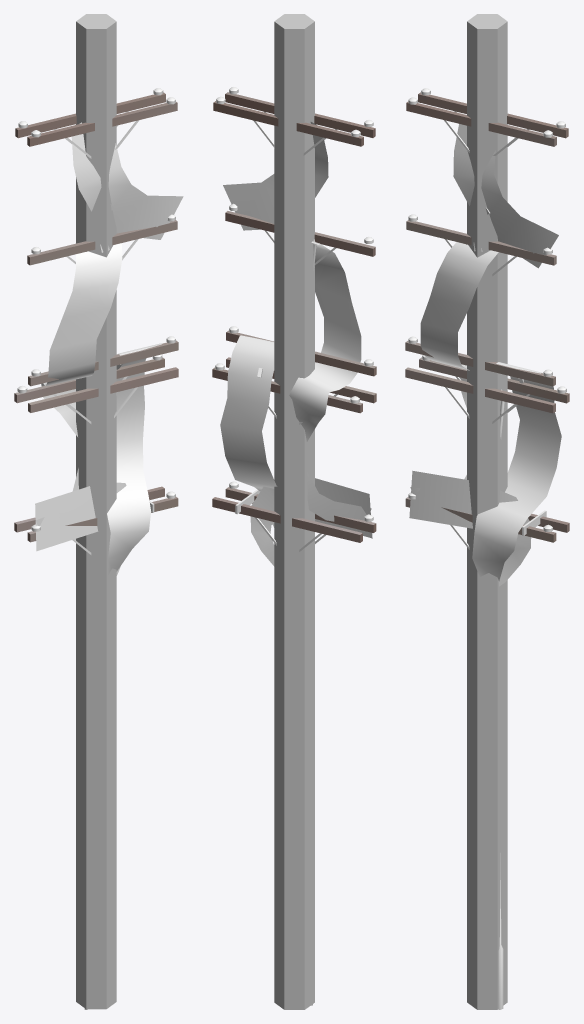
File: powerpole1.dae
3 renders of one model, left to right at view 1: azimuth 30°, elevation 25°; view 2: azimuth 150°, elevation 25°; view 3: azimuth 330°, elevation 25°, orthographic.
Visible parts, largest first — view 1: Colmesh-1, powerpole1_a400; view 2: Colmesh-1, powerpole1_a400; view 3: Colmesh-1, powerpole1_a400.
Boxes of the visible parts, x1,y1,x2,y2 form: Colmesh-1: (76, 14, 116, 1009); powerpole1_a400: (14, 88, 183, 1009); Colmesh-1: (274, 14, 314, 1009); powerpole1_a400: (212, 87, 376, 1005); Colmesh-1: (467, 14, 507, 1009); powerpole1_a400: (405, 88, 569, 1009).
Size of the model in its own units: 3.27 by 1.11 by 20.04.
